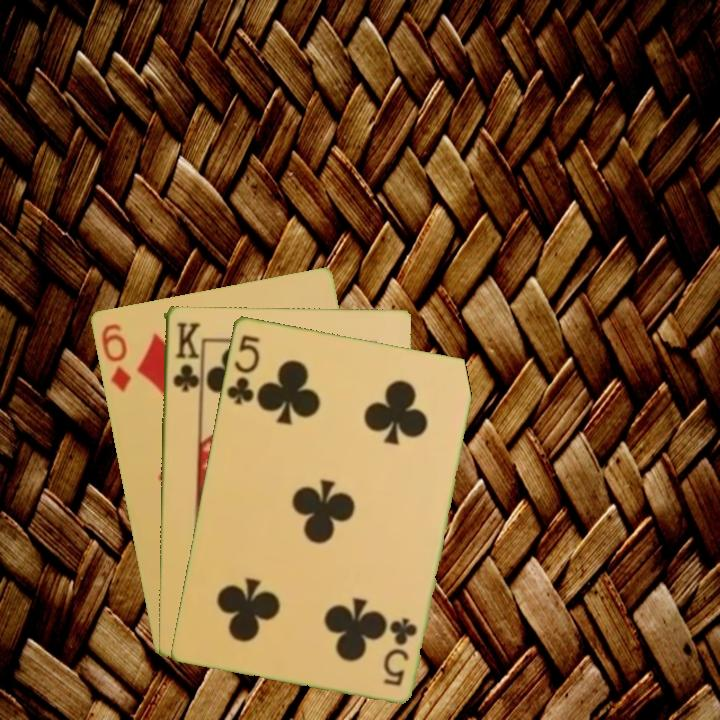5c: (223, 330, 263, 407), (379, 613, 420, 688)
6d: (97, 319, 134, 395)
Kc: (169, 318, 201, 394)
